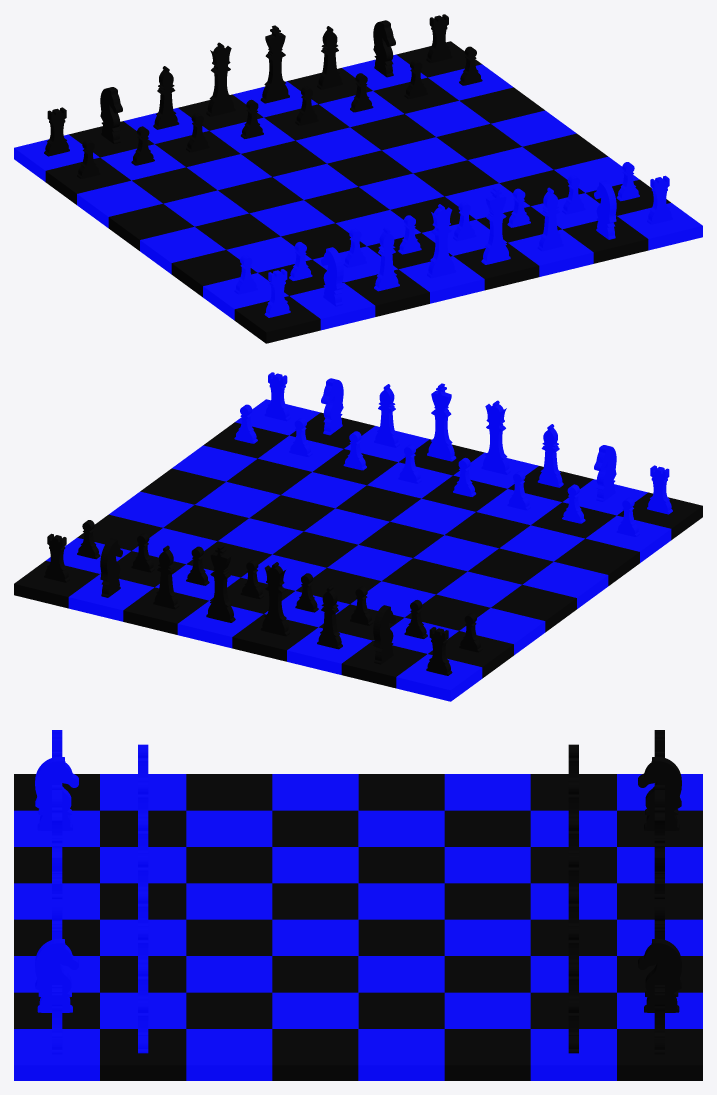
Rendered from Chess.glb.
3 renders of one model, top to bottom at view 1: azimuth 30°, elevation 25°; view 2: azimuth 150°, elevation 25°; view 3: azimuth 270°, elevation 25°, orthographic. The views are drawn at different scales.
Size of the model in its own units: 8 by 1.46 by 8.
